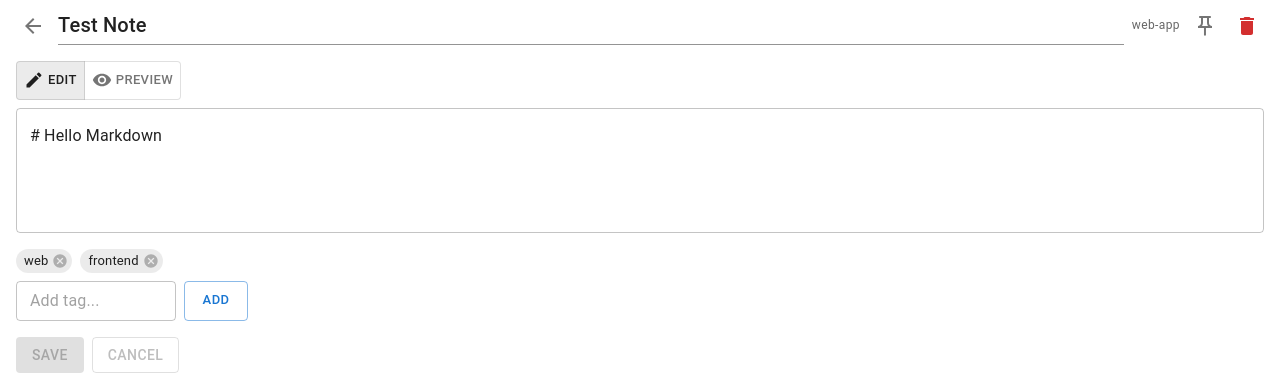
Test: NoteEditor › switches back to edit mode from preview
Click the button "Preview" at [132, 80], box [84, 61, 181, 100]
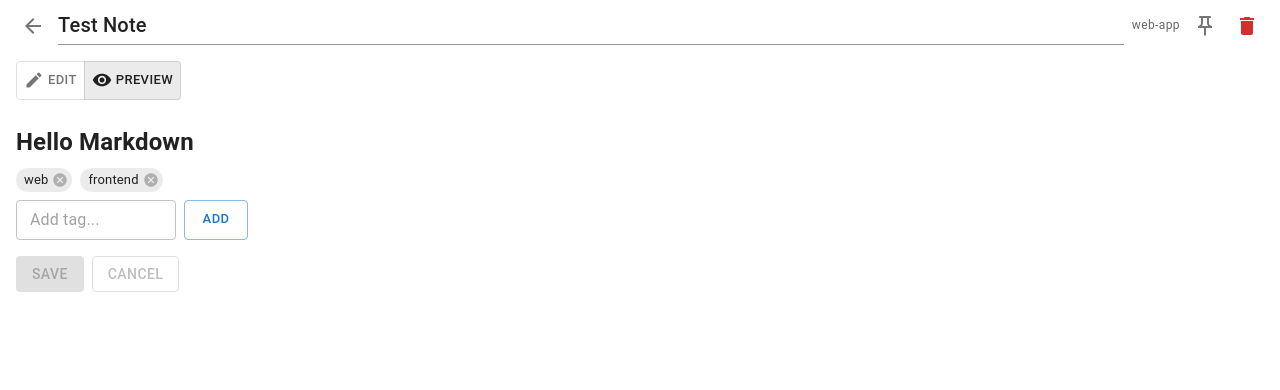
Click the button "Edit" at [50, 80], box [16, 61, 85, 100]
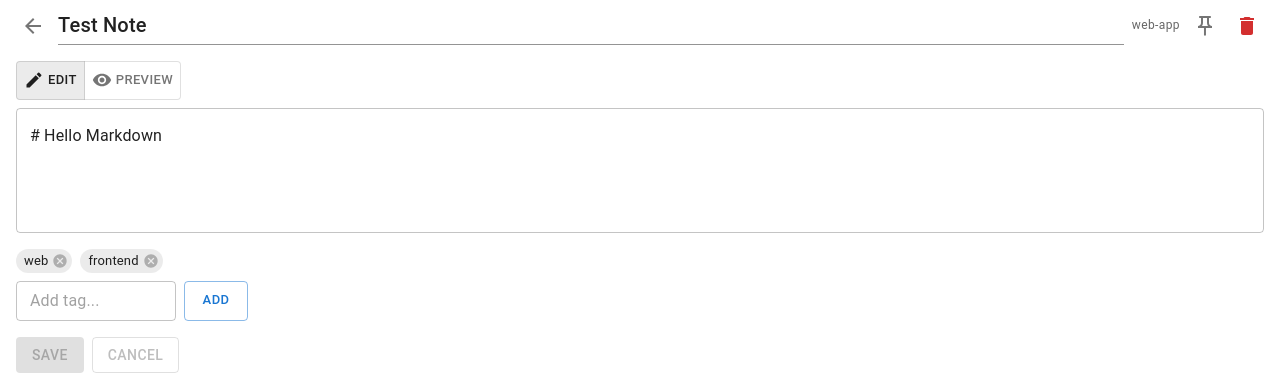
Expected: the text box with placeholder "Write your note here... (supports Markdown)" is shown, [30, 124, 1250, 216]
